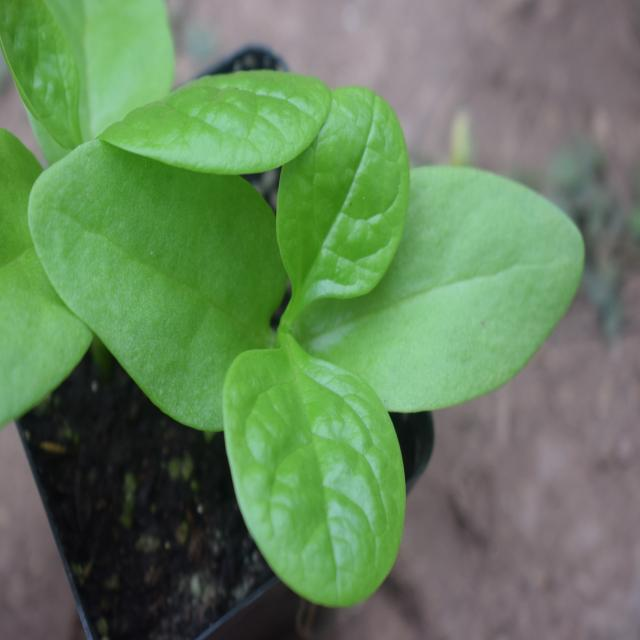Ceylon spinach: (61, 68, 574, 568)
